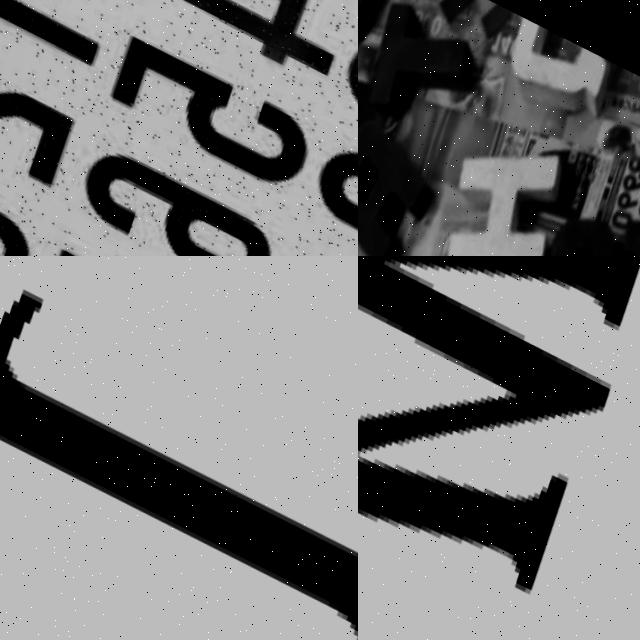1: (0, 256, 358, 640), (0, 0, 111, 70)
2: (0, 11, 82, 193)
4: (124, 0, 356, 82)
5: (90, 18, 318, 190)
6: (51, 124, 279, 256)
8: (317, 6, 358, 182)
9: (295, 119, 358, 256)
A: (358, 94, 454, 256)
H: (414, 103, 584, 256)
M: (358, 256, 640, 640)
O: (358, 0, 407, 51)
S: (514, 188, 640, 256)
T: (358, 0, 496, 149)
